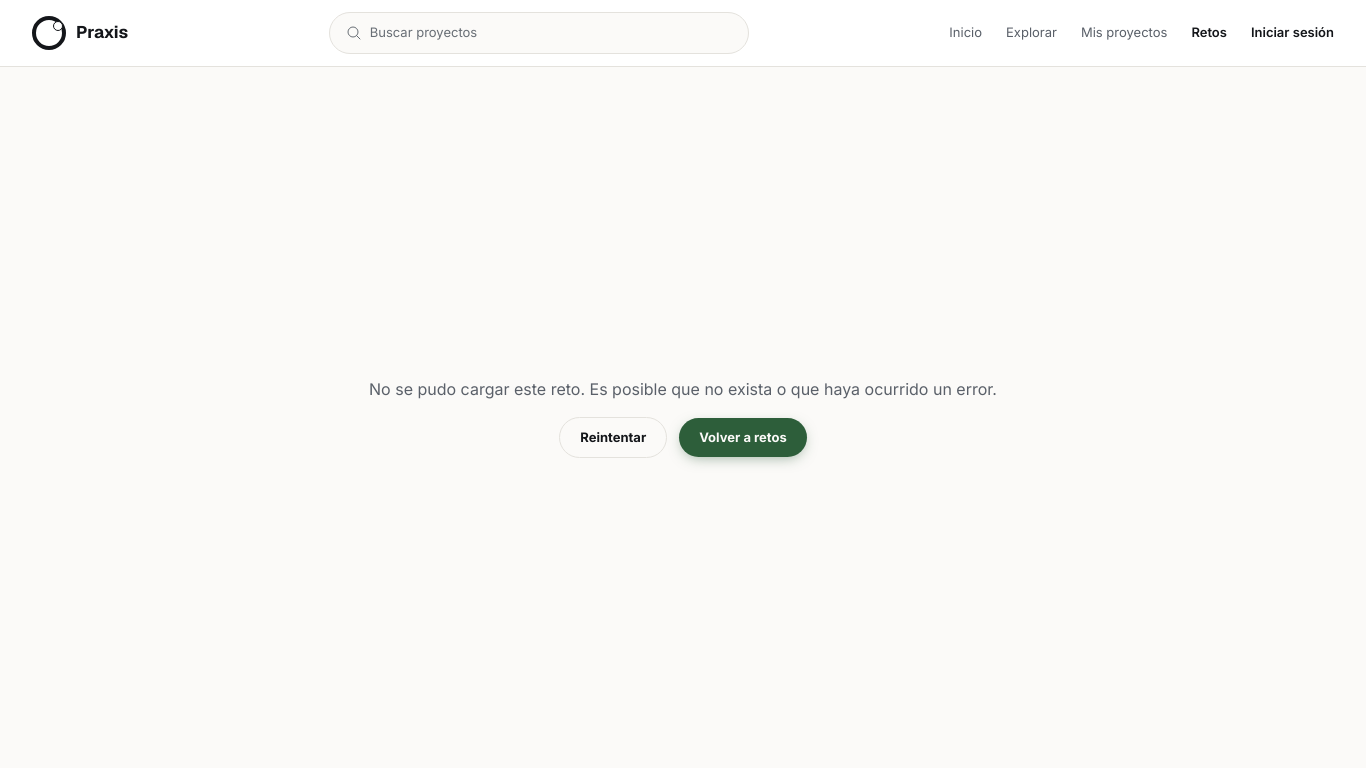
RetoDetalle — error state › shows the error message and retries on demand
Expected: the text "No se pudo cargar este reto" is shown, left=369, top=378, right=997, bottom=398
Click the button "Reintentar". click: (613, 437)
box: left=559, top=416, right=667, bottom=458
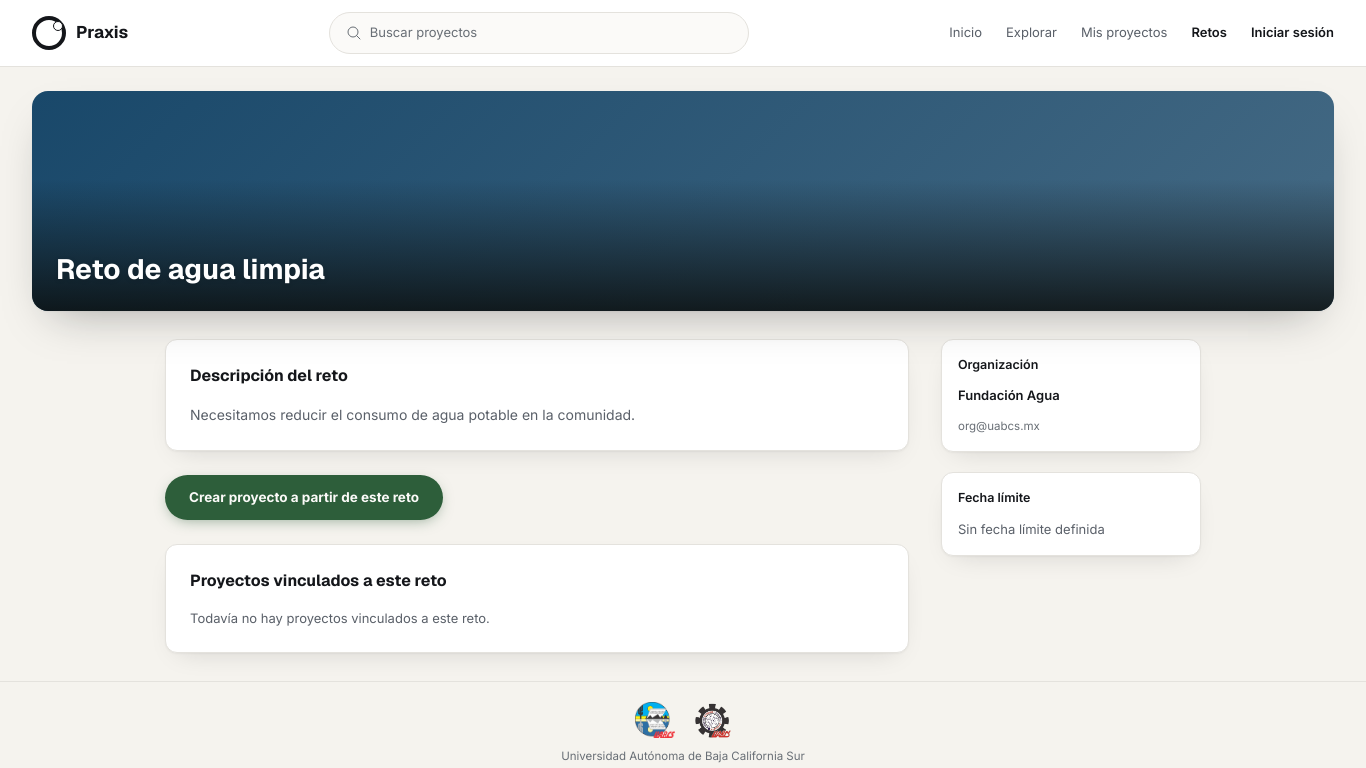
Result: the heading "Reto de agua limpia" is shown at left=56, top=250, right=325, bottom=286
